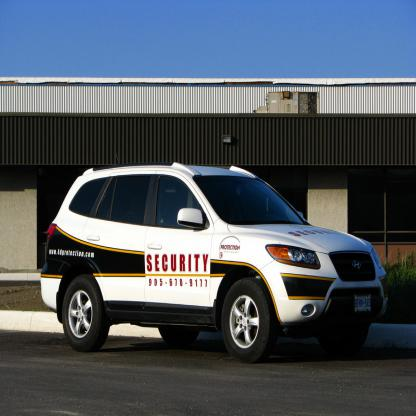Car: (40, 163, 388, 363)
